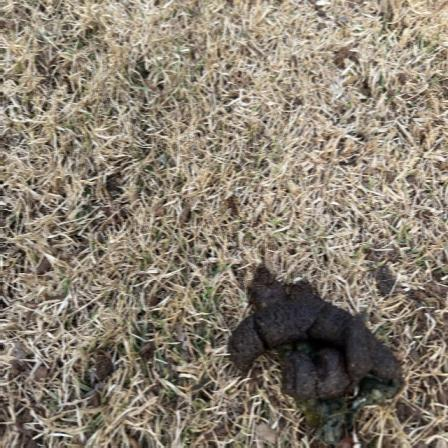dog-poop: (222, 259, 391, 431)
